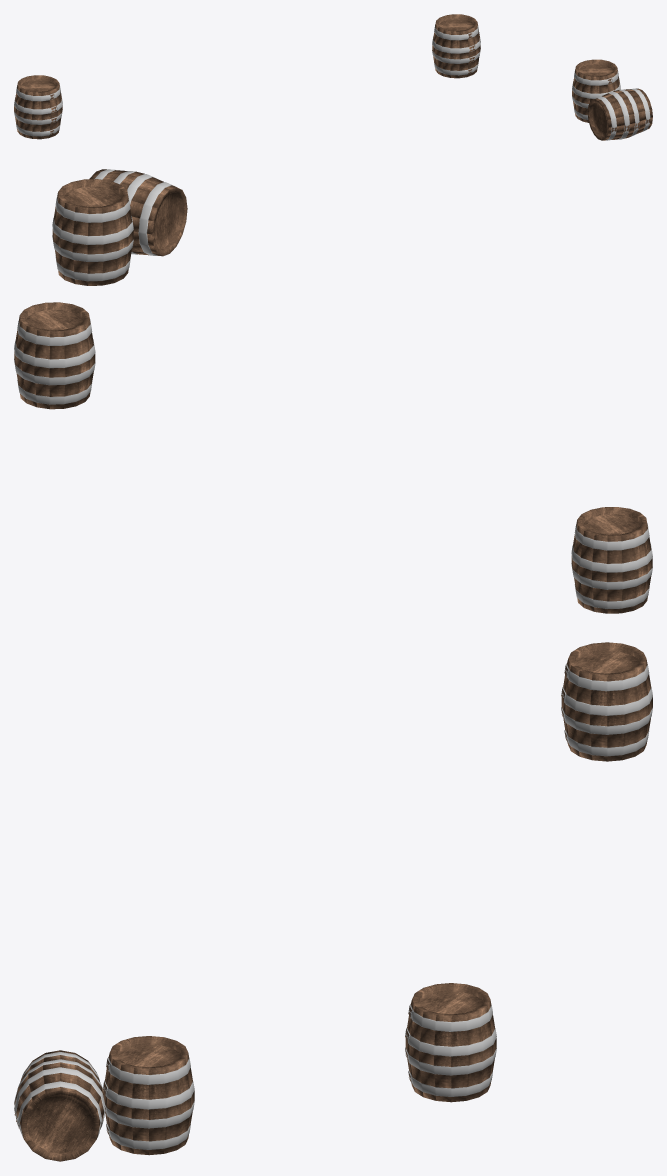
The model's file is Barril.obj.
The picture shows the model from 3 angles, top to bottom: view 1: azimuth 30°, elevation 25°; view 2: azimuth 150°, elevation 25°; view 3: azimuth 270°, elevation 25°; orthographic projection. The views are drawn at different scales.
Parts seen in each view (by area): view 1: group129_pasted__polySurface48; view 2: group129_pasted__polySurface48; view 3: group129_pasted__polySurface48.
Part boxes in pixels (x1,y1,x2,y2): group129_pasted__polySurface48: (14,14,652,140); group129_pasted__polySurface48: (14,169,652,613); group129_pasted__polySurface48: (14,642,652,1161).
Bounding box in the file's own units: 74.2 × 7.57 × 46.28.
